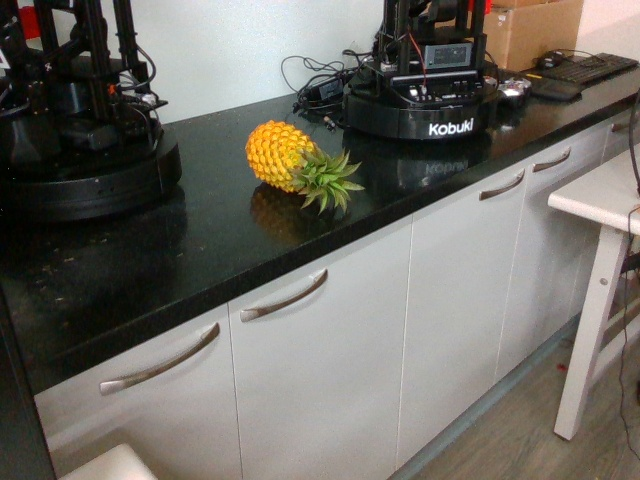pineapple: (242, 116, 364, 214)
